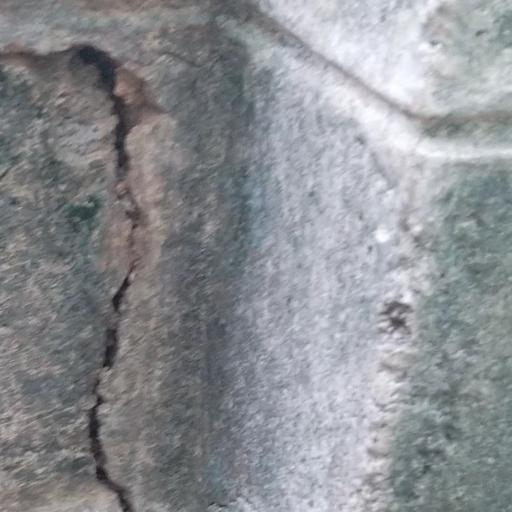major_crack: (0, 24, 149, 512)
